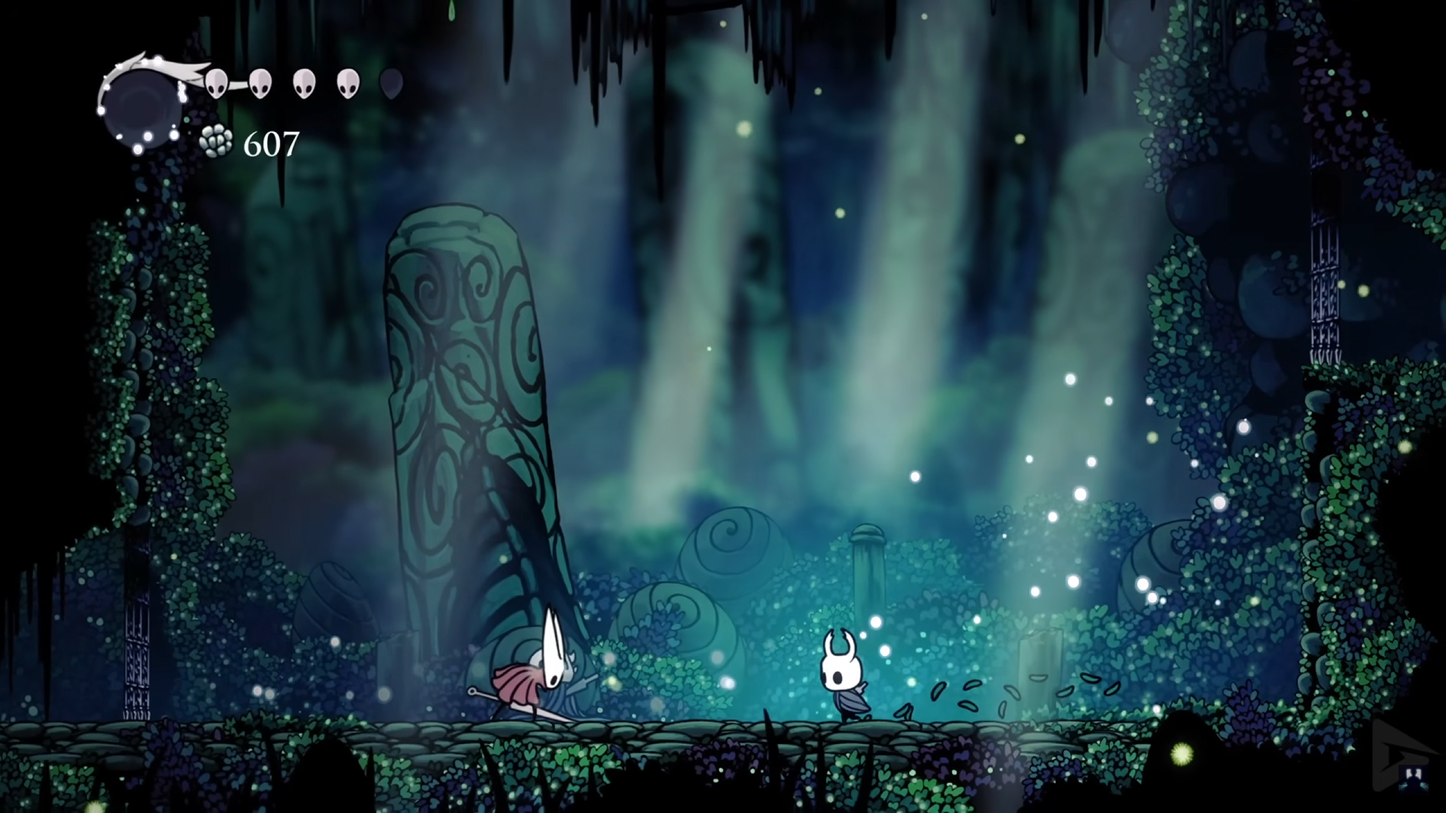HK: (811, 626, 877, 725)
